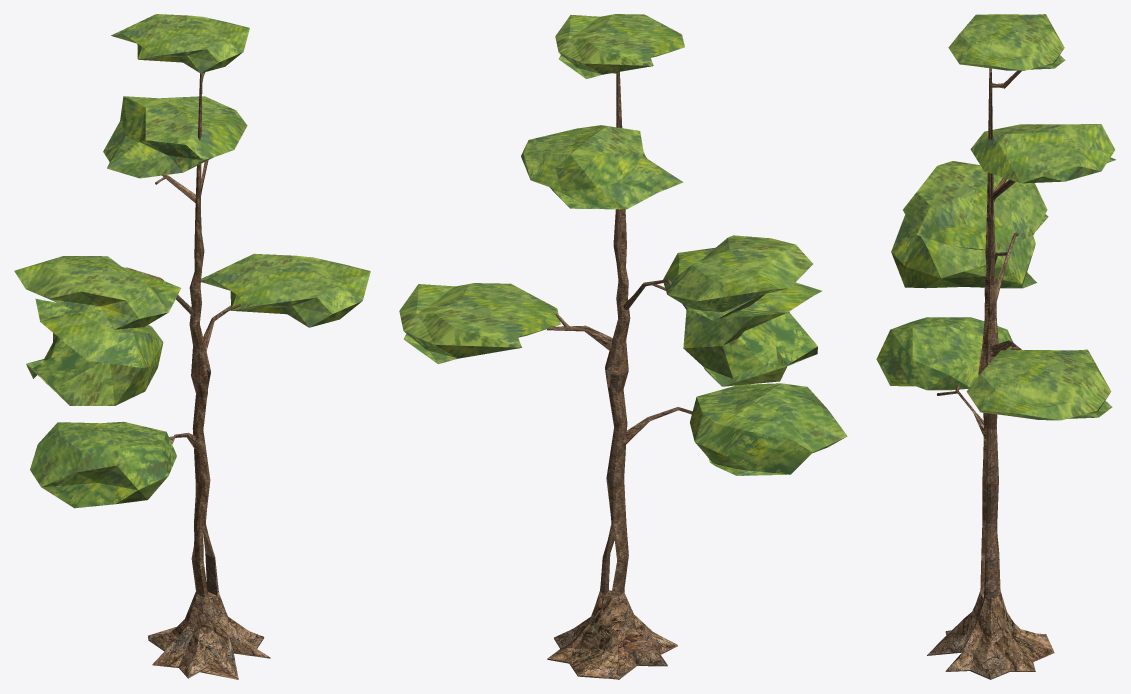
File: CPtree_v1-opaque.glb
3 views of the same model, side by side, from view 1: azimuth 30°, elevation 25°; view 2: azimuth 150°, elevation 25°; view 3: azimuth 270°, elevation 25° (orthographic). The views are drawn at different scales.
Parts seen in each view (by area): view 1: trunk, foliage1, foliage1.002, foliage1.001, foliage1.004, foliage1.003, foliage1.005; view 2: trunk, foliage1, foliage1.004, foliage1.001, foliage1.002, foliage1.003, foliage1.005; view 3: trunk, foliage1.003, foliage1.004, foliage1.001, foliage1, foliage1.002, foliage1.005.
Part boxes in pixels (x1=…): trunk: x1=148, y1=73, x2=270, y2=679; foliage1: x1=30, y1=421, x2=176, y2=508; foliage1.002: x1=26, y1=298, x2=163, y2=405; foliage1.001: x1=103, y1=96, x2=247, y2=178; foliage1.004: x1=201, y1=253, x2=370, y2=327; foliage1.003: x1=14, y1=256, x2=180, y2=329; foliage1.005: x1=111, y1=14, x2=249, y2=73; trunk: x1=547, y1=72, x2=677, y2=679; foliage1: x1=690, y1=383, x2=847, y2=475; foliage1.004: x1=399, y1=283, x2=560, y2=364; foliage1.001: x1=521, y1=125, x2=683, y2=209; foliage1.002: x1=683, y1=282, x2=821, y2=386; foliage1.003: x1=663, y1=235, x2=812, y2=320; foliage1.005: x1=555, y1=14, x2=684, y2=78; trunk: x1=927, y1=68, x2=1054, y2=679; foliage1.003: x1=903, y1=161, x2=1048, y2=250; foliage1.004: x1=966, y1=349, x2=1112, y2=420; foliage1.001: x1=970, y1=124, x2=1115, y2=183; foliage1: x1=876, y1=317, x2=1015, y2=390; foliage1.002: x1=891, y1=215, x2=1036, y2=288; foliage1.005: x1=948, y1=14, x2=1065, y2=70.
Size of what is drawn, in the model's own units: 51.62 by 82.1 by 28.95.
2 materials, 2 textured.
